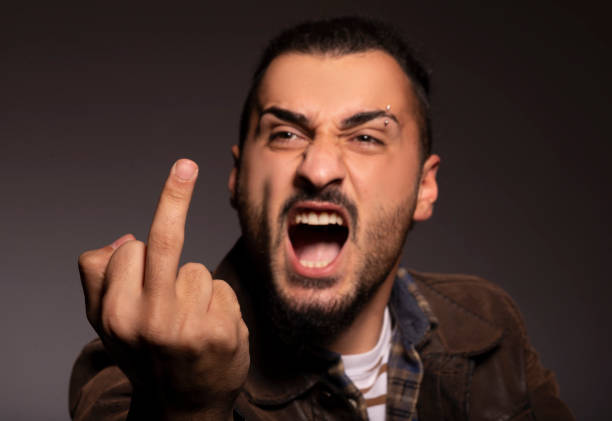insulting_gesture: (80, 155, 253, 417)
